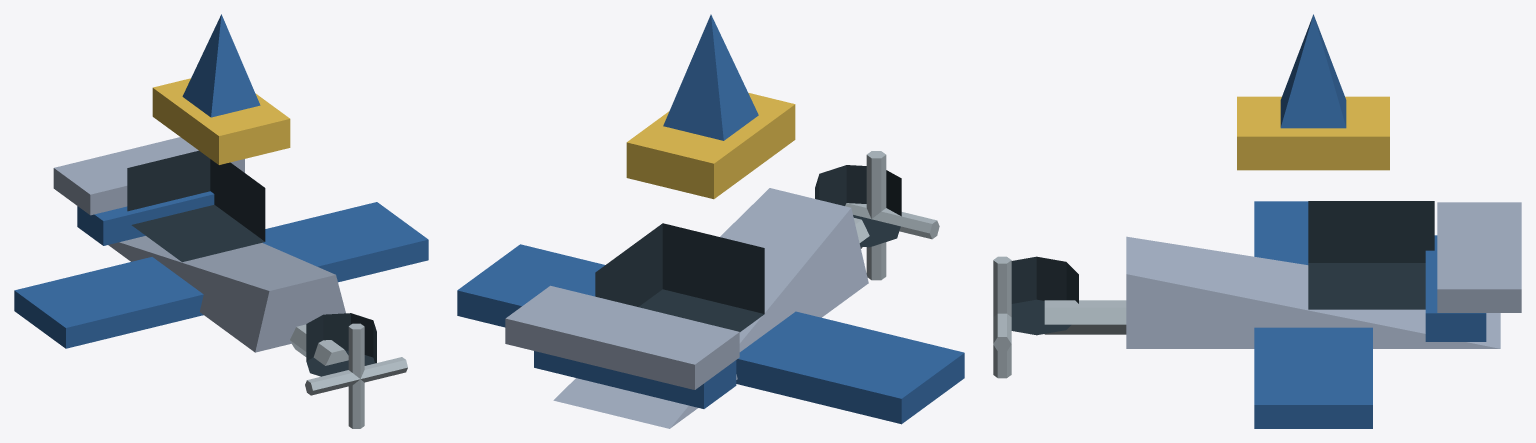
File: air.obj
3 renders of one model, left to right at view 1: azimuth 30°, elevation 25°; view 2: azimuth 150°, elevation 25°; view 3: azimuth 270°, elevation 25°, orthographic. The views are drawn at different scales.
Visible parts, largest first — view 1: air; view 2: air; view 3: air.
Part boxes in pixels (bbox=[...]): air: bbox=[14, 14, 428, 428]; air: bbox=[457, 14, 964, 428]; air: bbox=[993, 14, 1521, 428].
Size of the model in its own units: 1.83 by 1.51 by 2.01.
